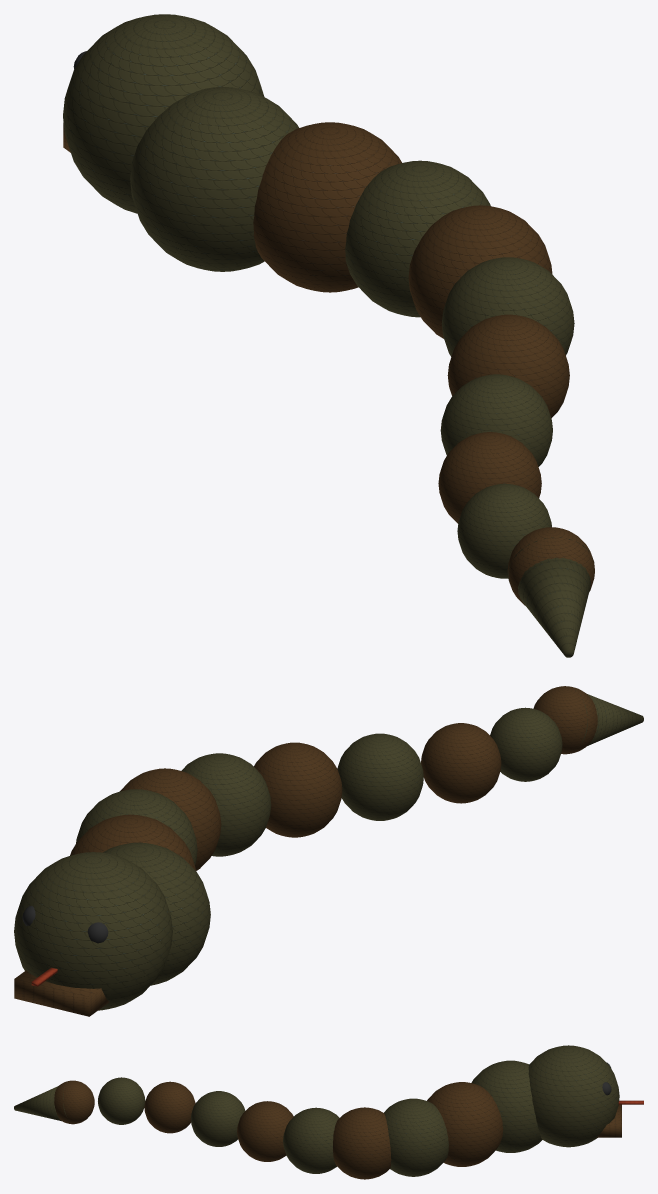
The model's file is sea-serpent.glb.
The picture shows the model from 3 angles, top to bottom: view 1: azimuth 30°, elevation 25°; view 2: azimuth 150°, elevation 25°; view 3: azimuth 270°, elevation 25°; orthographic projection. The views are drawn at different scales.
Parts seen in each view (by area): view 1: Segment0, Head, Segment1, Segment2, Segment3, Segment4, Segment5, Segment6, Segment8, Segment7, TailTip, Segment9; view 2: Head, Segment5, Segment6, Segment0, Segment4, Segment7, Segment8, Segment3, Segment2, Segment1, Segment9, Jaw (+1 smaller); view 3: Head, Segment1, Segment2, Segment0, Segment3, Segment4, Segment5, Segment6, Segment7, Segment8, Segment9, TailTip (+1 smaller).
Boxes of the visible parts, <box> form: Segment0: <box>130,86,298,271</box>; Head: <box>63,14,264,213</box>; Segment1: <box>253,122,401,292</box>; Segment2: <box>345,160,490,317</box>; Segment3: <box>408,205,552,338</box>; Segment4: <box>441,257,574,356</box>; Segment5: <box>447,314,569,418</box>; Segment6: <box>440,374,552,466</box>; Segment8: <box>457,483,551,578</box>; Segment7: <box>438,432,541,523</box>; TailTip: <box>508,537,594,657</box>; Segment9: <box>507,527,594,605</box>; Head: <box>14,852,172,1010</box>; Segment5: <box>254,742,342,837</box>; Segment6: <box>337,733,423,820</box>; Segment0: <box>103,842,210,985</box>; Segment4: <box>181,753,271,856</box>; Segment7: <box>421,723,501,803</box>; Segment8: <box>490,707,562,781</box>; Segment3: <box>120,768,221,870</box>; Segment2: <box>76,789,197,865</box>; Segment1: <box>70,814,195,870</box>; Segment9: <box>533,686,597,754</box>; Jaw: <box>14,970,109,1016</box>; Head: <box>528,1045,619,1147</box>; Segment1: <box>427,1082,503,1166</box>; Segment2: <box>384,1098,448,1176</box>; Segment0: <box>471,1060,542,1152</box>; Segment3: <box>333,1107,391,1179</box>; Segment4: <box>283,1107,339,1173</box>; Segment5: <box>237,1101,293,1161</box>; Segment6: <box>191,1091,245,1146</box>; Segment7: <box>144,1081,195,1133</box>; Segment8: <box>98,1077,145,1124</box>; Segment9: <box>54,1080,94,1124</box>; TailTip: <box>14,1082,70,1122</box>.
Size of the model in its own units: 0.7652 by 0.4406 by 2.55.
4 materials, 3 textured.
